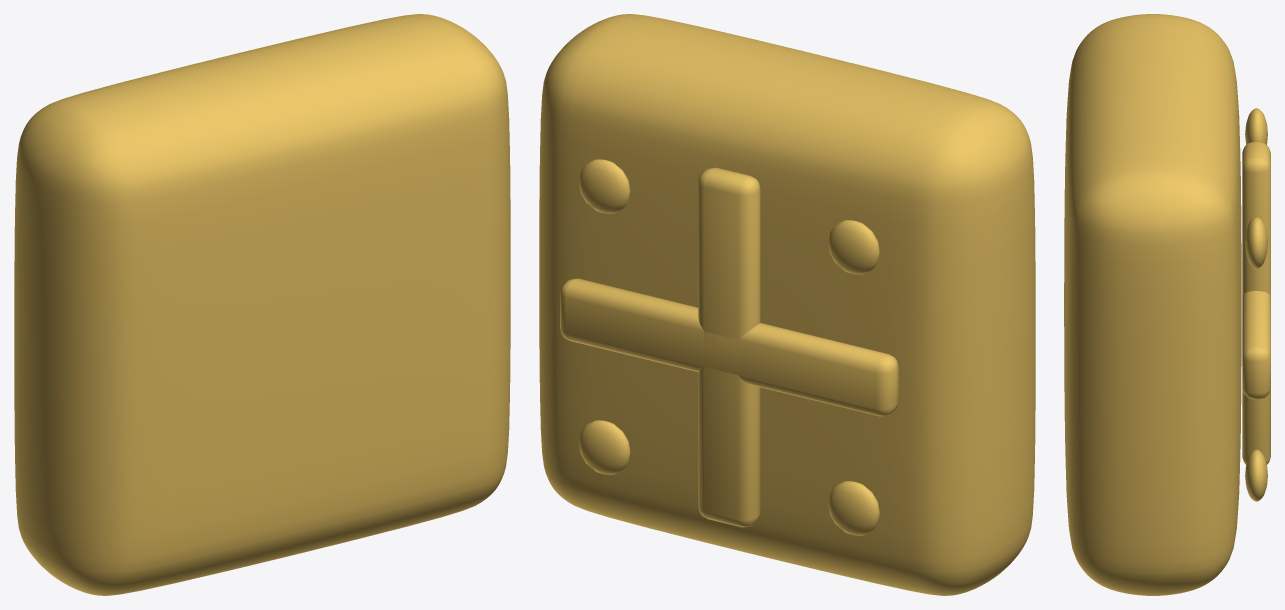
File: Box_State3.fbx
3 views of the same model, side by side, from view 1: azimuth 30°, elevation 25°; view 2: azimuth 150°, elevation 25°; view 3: azimuth 270°, elevation 25° (orthographic). The views are drawn at different scales.
Visible parts, largest first — view 1: Box_State3; view 2: Box_State3; view 3: Box_State3.
Part boxes in pixels (left/top/right/bottom): Box_State3: left=14, top=14, right=510, bottom=595; Box_State3: left=539, top=14, right=1035, bottom=595; Box_State3: left=1064, top=14, right=1270, bottom=595.
Bounding box in the file's own units: 0.8512 × 0.8512 × 0.3709.
